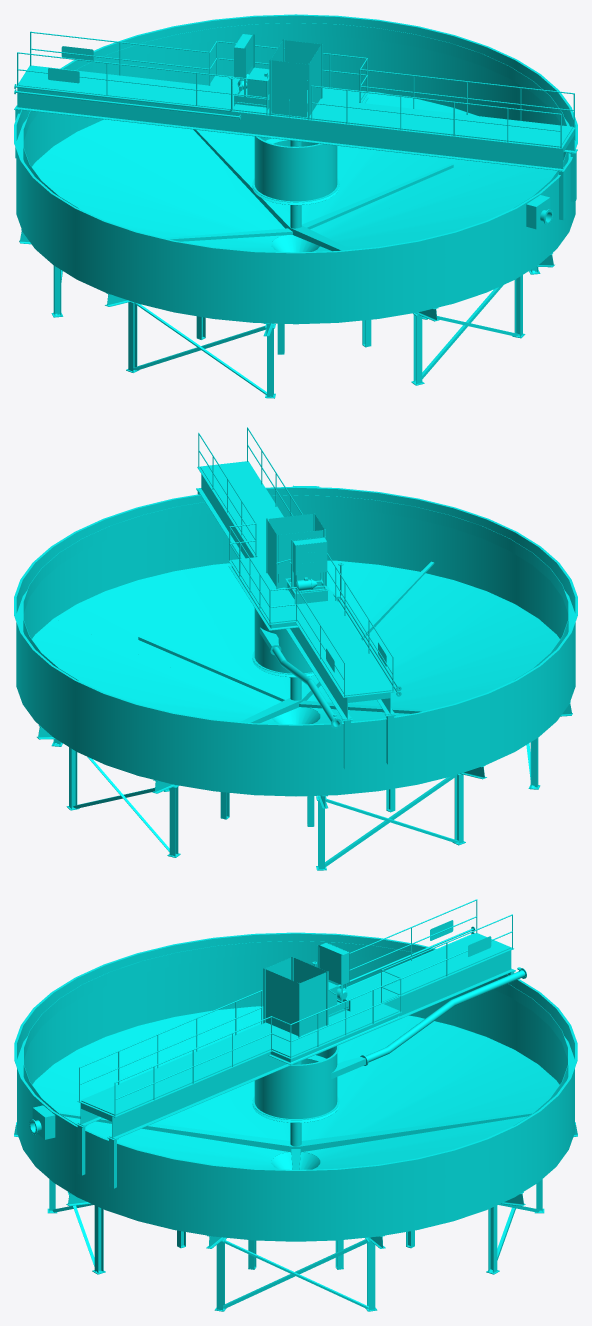
File: Espesadores.fbx
3 views of the same model, one above another, from view 1: azimuth 30°, elevation 25°; view 2: azimuth 150°, elevation 25°; view 3: azimuth 270°, elevation 25° (orthographic).
Parts seen in each view (by area): view 1: 5FCE6AF39B38EE38440AB767A420B3EB233D8E00|:|424BE675DB4D24D82, 5FCE6AF39B38EE38440AB767A420B3EB233D8E00|:|60F4133240A4E3625, 5FCE6AF39B38EE38440AB767A420B3EB233D8E00|:|633F2B67C261F11D3, 5FCE6AF39B38EE38440AB767A420B3EB233D8E00|:|DE484E6F660AA7DF3, 5FCE6AF39B38EE38440AB767A420B3EB233D8E00|:|655F3C9EF5BC6E4F6, 5FCE6AF39B38EE38440AB767A420B3EB233D8E00|:|B2721676EC581A3E8, 5FCE6AF39B38EE38440AB767A420B3EB233D8E00|:|35725044D3E8C37DD, 5FCE6AF39B38EE38440AB767A420B3EB233D8E00|:|0F9B730180E36AB93, 5FCE6AF39B38EE38440AB767A420B3EB233D8E00|:|8301FD005884AE4F2, 5FCE6AF39B38EE38440AB767A420B3EB233D8E00|:|C882FFFD6152D61A1, 5FCE6AF39B38EE38440AB767A420B3EB233D8E00|:|A35035D3ADC1DEBEA, 5FCE6AF39B38EE38440AB767A420B3EB233D8E00|:|3AEC1C865A1568D62 (+10 smaller); view 2: 5FCE6AF39B38EE38440AB767A420B3EB233D8E00|:|424BE675DB4D24D82, 5FCE6AF39B38EE38440AB767A420B3EB233D8E00|:|633F2B67C261F11D3, 5FCE6AF39B38EE38440AB767A420B3EB233D8E00|:|DE484E6F660AA7DF3, 5FCE6AF39B38EE38440AB767A420B3EB233D8E00|:|B2721676EC581A3E8, 5FCE6AF39B38EE38440AB767A420B3EB233D8E00|:|35725044D3E8C37DD, 5FCE6AF39B38EE38440AB767A420B3EB233D8E00|:|4D3B6645B5F7200F5, 5FCE6AF39B38EE38440AB767A420B3EB233D8E00|:|655F3C9EF5BC6E4F6, 5FCE6AF39B38EE38440AB767A420B3EB233D8E00|:|7A2D5B9910365C06E, 5FCE6AF39B38EE38440AB767A420B3EB233D8E00|:|31D13C205A5E25B93, 5FCE6AF39B38EE38440AB767A420B3EB233D8E00|:|AC51F6E1D05F5BA84, 5FCE6AF39B38EE38440AB767A420B3EB233D8E00|:|08FFD6E8E9B794E26, 5FCE6AF39B38EE38440AB767A420B3EB233D8E00|:|C1CFD92C2A6391E9A (+4 smaller); view 3: 5FCE6AF39B38EE38440AB767A420B3EB233D8E00|:|424BE675DB4D24D82, 5FCE6AF39B38EE38440AB767A420B3EB233D8E00|:|633F2B67C261F11D3, 5FCE6AF39B38EE38440AB767A420B3EB233D8E00|:|4D3B6645B5F7200F5, 5FCE6AF39B38EE38440AB767A420B3EB233D8E00|:|DE484E6F660AA7DF3, 5FCE6AF39B38EE38440AB767A420B3EB233D8E00|:|655F3C9EF5BC6E4F6, 5FCE6AF39B38EE38440AB767A420B3EB233D8E00|:|B2721676EC581A3E8, 5FCE6AF39B38EE38440AB767A420B3EB233D8E00|:|35725044D3E8C37DD, 5FCE6AF39B38EE38440AB767A420B3EB233D8E00|:|AC51F6E1D05F5BA84, 5FCE6AF39B38EE38440AB767A420B3EB233D8E00|:|8301FD005884AE4F2, 5FCE6AF39B38EE38440AB767A420B3EB233D8E00|:|3AEC1C865A1568D62, 5FCE6AF39B38EE38440AB767A420B3EB233D8E00|:|EC587ED571898DFB6, 5FCE6AF39B38EE38440AB767A420B3EB233D8E00|:|0FD319ADBAA58DD27 (+10 smaller).
Part boxes in pixels (bbox=[...]): 5FCE6AF39B38EE38440AB767A420B3EB233D8E00|:|424BE675DB4D24D82: bbox=[16, 15, 575, 324]; 5FCE6AF39B38EE38440AB767A420B3EB233D8E00|:|60F4133240A4E3625: bbox=[16, 83, 564, 171]; 5FCE6AF39B38EE38440AB767A420B3EB233D8E00|:|633F2B67C261F11D3: bbox=[19, 65, 572, 147]; 5FCE6AF39B38EE38440AB767A420B3EB233D8E00|:|DE484E6F660AA7DF3: bbox=[16, 23, 575, 209]; 5FCE6AF39B38EE38440AB767A420B3EB233D8E00|:|655F3C9EF5BC6E4F6: bbox=[252, 136, 339, 202]; 5FCE6AF39B38EE38440AB767A420B3EB233D8E00|:|B2721676EC581A3E8: bbox=[164, 129, 453, 251]; 5FCE6AF39B38EE38440AB767A420B3EB233D8E00|:|35725044D3E8C37DD: bbox=[14, 14, 577, 254]; 5FCE6AF39B38EE38440AB767A420B3EB233D8E00|:|0F9B730180E36AB93: bbox=[272, 60, 306, 117]; 5FCE6AF39B38EE38440AB767A420B3EB233D8E00|:|8301FD005884AE4F2: bbox=[285, 40, 319, 80]; 5FCE6AF39B38EE38440AB767A420B3EB233D8E00|:|C882FFFD6152D61A1: bbox=[413, 314, 422, 383]; 5FCE6AF39B38EE38440AB767A420B3EB233D8E00|:|A35035D3ADC1DEBEA: bbox=[128, 302, 137, 371]; 5FCE6AF39B38EE38440AB767A420B3EB233D8E00|:|3AEC1C865A1568D62: bbox=[234, 34, 252, 77]; 5FCE6AF39B38EE38440AB767A420B3EB233D8E00|:|424BE675DB4D24D82: bbox=[16, 487, 575, 796]; 5FCE6AF39B38EE38440AB767A420B3EB233D8E00|:|633F2B67C261F11D3: bbox=[200, 461, 391, 696]; 5FCE6AF39B38EE38440AB767A420B3EB233D8E00|:|DE484E6F660AA7DF3: bbox=[16, 495, 575, 680]; 5FCE6AF39B38EE38440AB767A420B3EB233D8E00|:|B2721676EC581A3E8: bbox=[138, 561, 434, 723]; 5FCE6AF39B38EE38440AB767A420B3EB233D8E00|:|35725044D3E8C37DD: bbox=[14, 486, 577, 726]; 5FCE6AF39B38EE38440AB767A420B3EB233D8E00|:|4D3B6645B5F7200F5: bbox=[197, 466, 351, 719]; 5FCE6AF39B38EE38440AB767A420B3EB233D8E00|:|655F3C9EF5BC6E4F6: bbox=[252, 591, 339, 674]; 5FCE6AF39B38EE38440AB767A420B3EB233D8E00|:|7A2D5B9910365C06E: bbox=[295, 542, 327, 575]; 5FCE6AF39B38EE38440AB767A420B3EB233D8E00|:|31D13C205A5E25B93: bbox=[278, 530, 323, 588]; 5FCE6AF39B38EE38440AB767A420B3EB233D8E00|:|AC51F6E1D05F5BA84: bbox=[268, 514, 313, 564]; 5FCE6AF39B38EE38440AB767A420B3EB233D8E00|:|08FFD6E8E9B794E26: bbox=[318, 775, 457, 867]; 5FCE6AF39B38EE38440AB767A420B3EB233D8E00|:|C1CFD92C2A6391E9A: bbox=[285, 536, 328, 604]; 5FCE6AF39B38EE38440AB767A420B3EB233D8E00|:|424BE675DB4D24D82: bbox=[17, 933, 574, 1241]; 5FCE6AF39B38EE38440AB767A420B3EB233D8E00|:|633F2B67C261F11D3: bbox=[81, 933, 510, 1115]; 5FCE6AF39B38EE38440AB767A420B3EB233D8E00|:|4D3B6645B5F7200F5: bbox=[109, 947, 513, 1139]; 5FCE6AF39B38EE38440AB767A420B3EB233D8E00|:|DE484E6F660AA7DF3: bbox=[17, 941, 574, 1126]; 5FCE6AF39B38EE38440AB767A420B3EB233D8E00|:|655F3C9EF5BC6E4F6: bbox=[252, 1045, 352, 1120]; 5FCE6AF39B38EE38440AB767A420B3EB233D8E00|:|B2721676EC581A3E8: bbox=[57, 1061, 534, 1169]; 5FCE6AF39B38EE38440AB767A420B3EB233D8E00|:|35725044D3E8C37DD: bbox=[14, 932, 577, 1172]; 5FCE6AF39B38EE38440AB767A420B3EB233D8E00|:|AC51F6E1D05F5BA84: bbox=[265, 969, 298, 1035]; 5FCE6AF39B38EE38440AB767A420B3EB233D8E00|:|8301FD005884AE4F2: bbox=[300, 972, 326, 1035]; 5FCE6AF39B38EE38440AB767A420B3EB233D8E00|:|3AEC1C865A1568D62: bbox=[320, 943, 349, 984]; 5FCE6AF39B38EE38440AB767A420B3EB233D8E00|:|EC587ED571898DFB6: bbox=[290, 1012, 402, 1064]; 5FCE6AF39B38EE38440AB767A420B3EB233D8E00|:|0FD319ADBAA58DD27: bbox=[223, 1237, 370, 1308].
Bounding box in the file's own units: 595 × 287 × 594.
